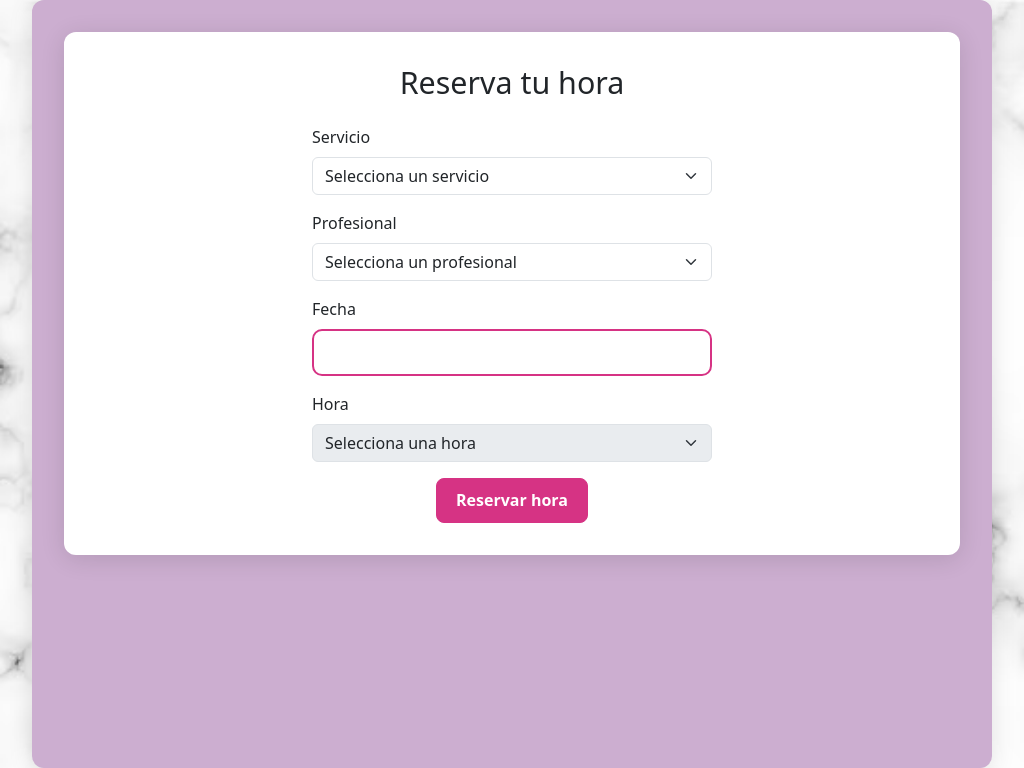
Reserva Page › muestra error si crearReserva devuelve success=false
Select "Corte — $5.000" in the dropdown with test id "select-servicio": (512, 176) [312,156,712,194]
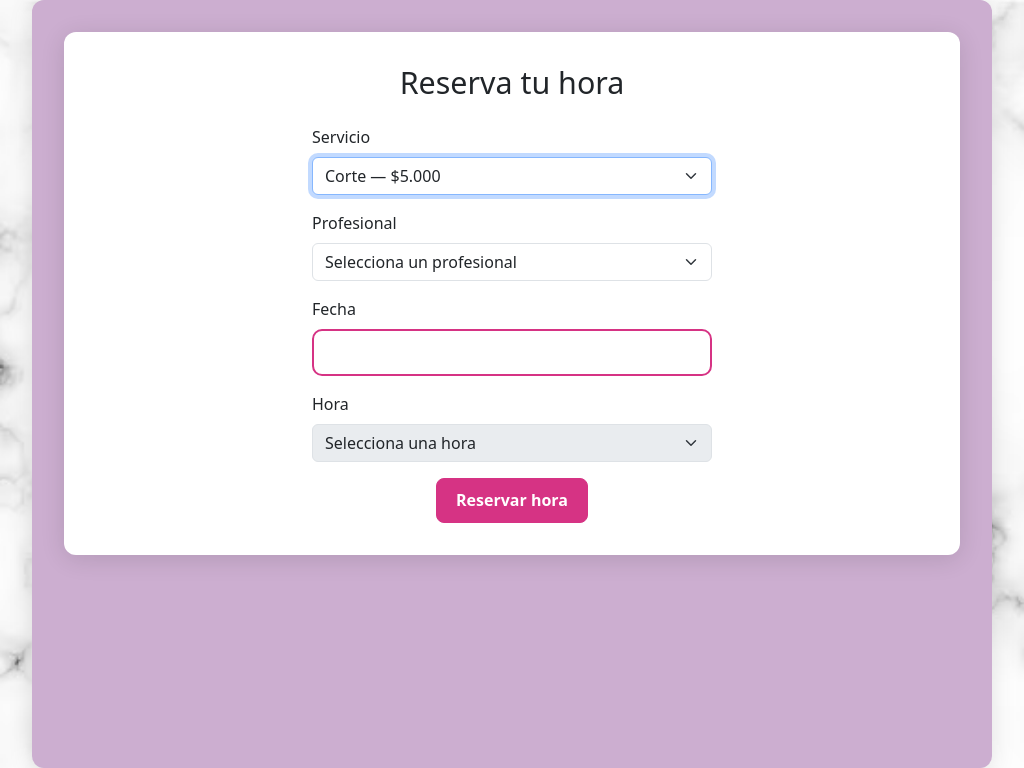
Select "Ana Pérez" in the dropdown with test id "select-trabajador": (512, 262) [312,242,712,280]
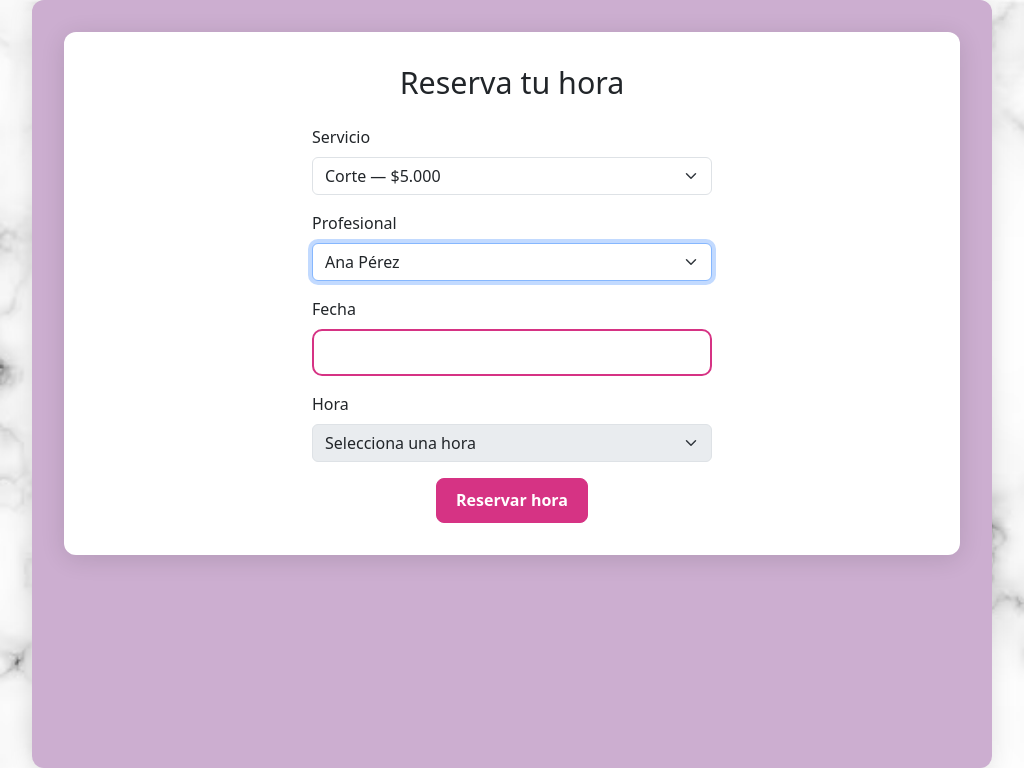
In the field with test id "input-fecha": (512, 352) [312,328,712,376], type "2025-01-02"
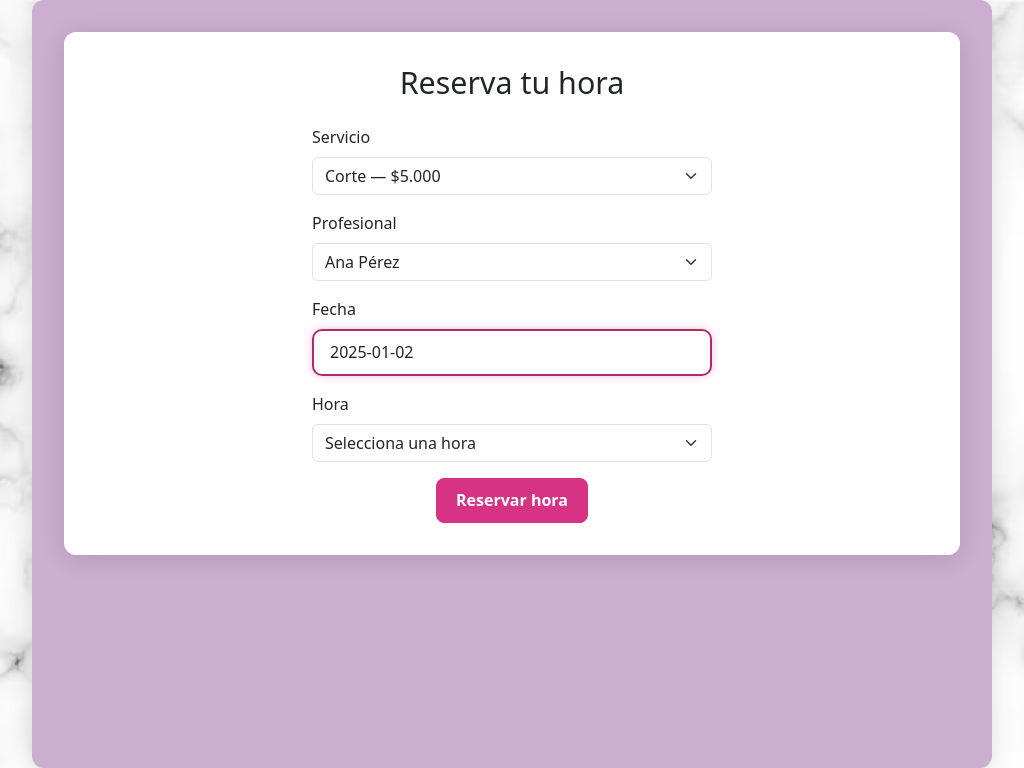
Select "10:00" in the dropdown with test id "select-hora": (512, 443) [312,424,712,462]
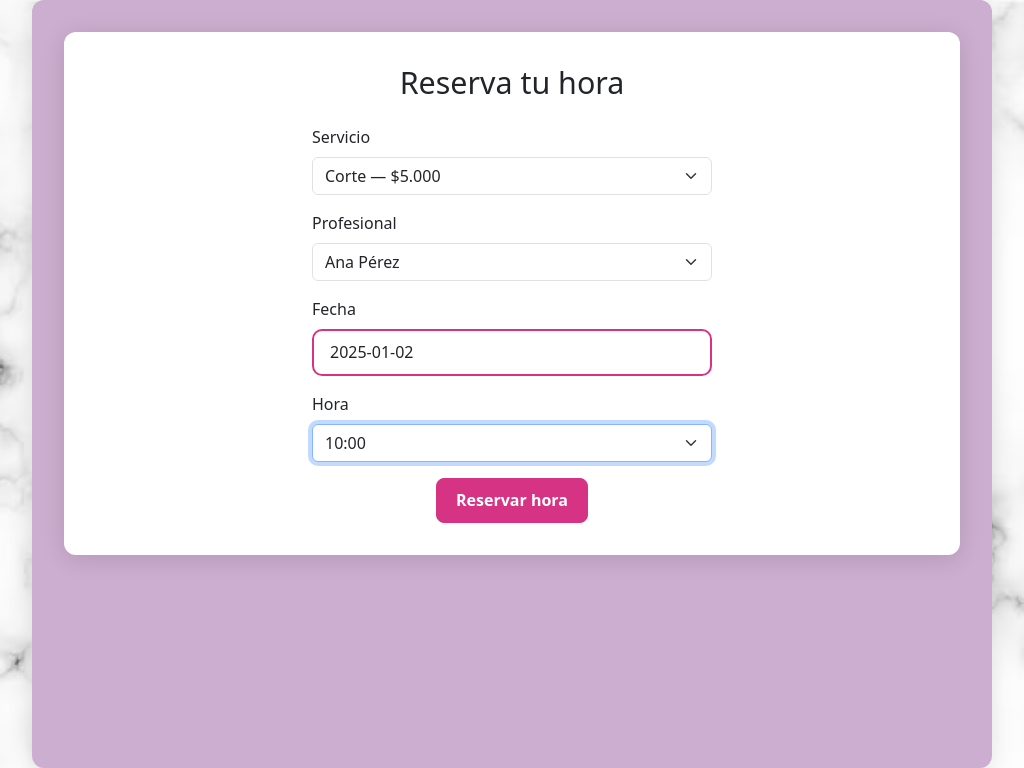
Click the button "Reservar hora": (512, 500) [436,478,588,523]
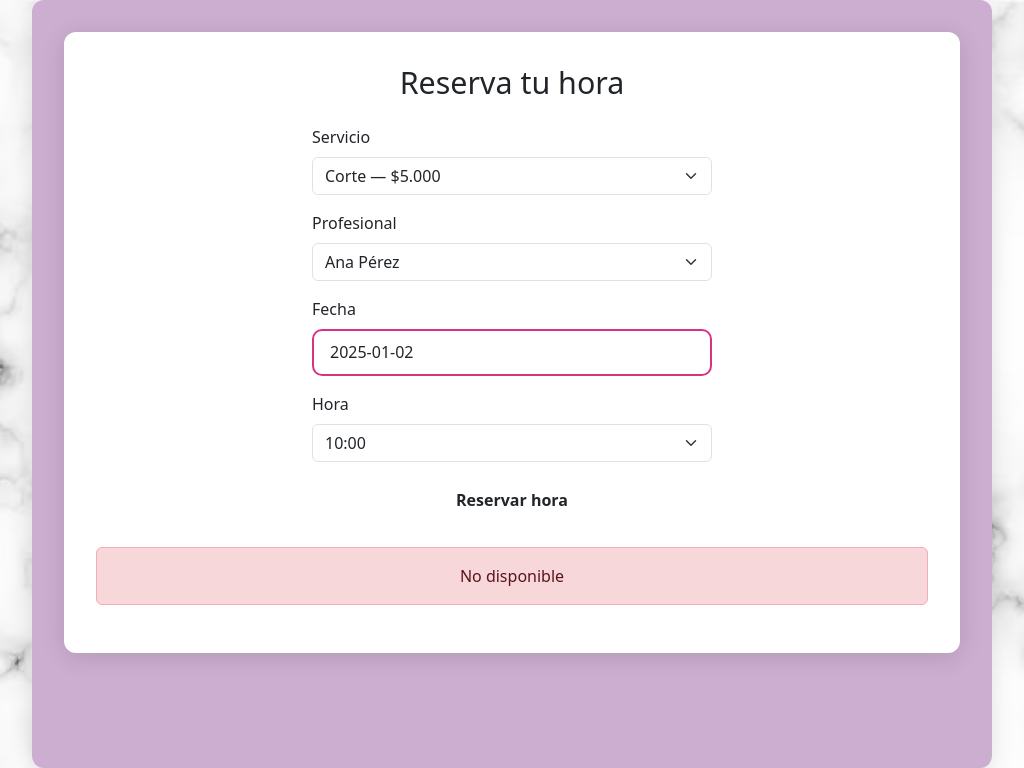
expect the text "No disponible" is shown: met, box [96,547,928,605]
